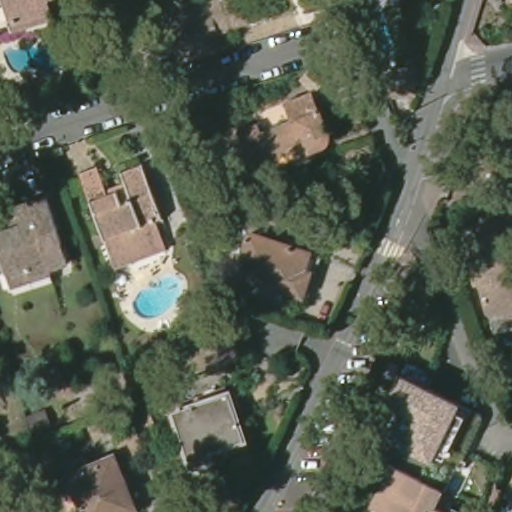pool: (127, 274, 191, 319), (2, 38, 50, 80)
